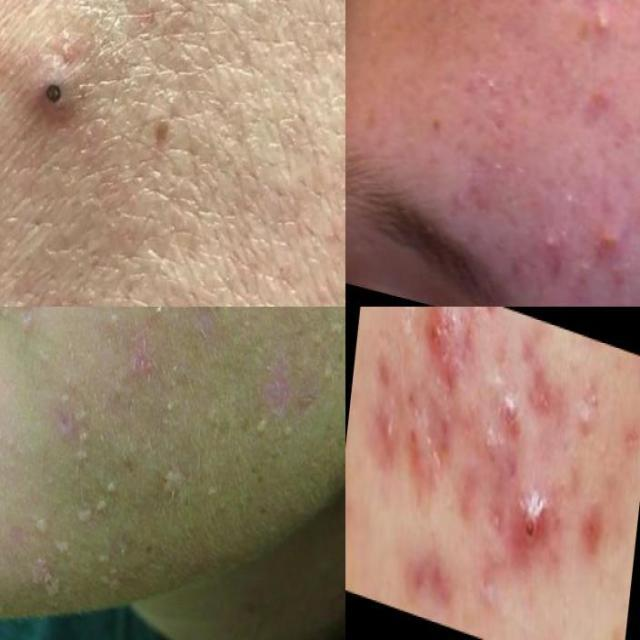Pimples: (18, 46, 92, 135), (247, 350, 301, 428), (512, 468, 553, 558), (410, 307, 464, 369), (108, 318, 154, 387), (34, 392, 82, 454), (580, 484, 608, 564), (587, 208, 618, 265), (5, 306, 48, 344)
